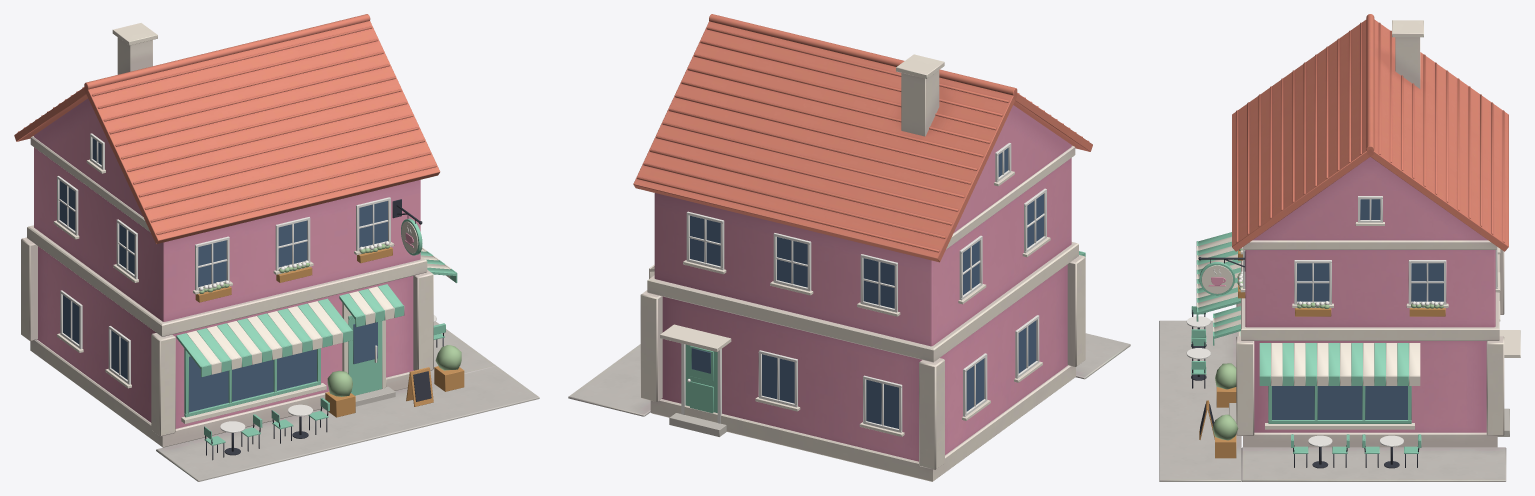
File: cafe-exterior.glb
3 views of the same model, side by side, from view 1: azimuth 30°, elevation 25°; view 2: azimuth 150°, elevation 25°; view 3: azimuth 270°, elevation 25° (orthographic). The views are drawn at different scales.
Parts seen in each view (by area): view 1: cafe_body, cafe_details, cafe_shrubs; view 2: cafe_body, cafe_details; view 3: cafe_body, cafe_details, cafe_shrubs.
Part boxes in pixels (bbox=[...]): cafe_body: bbox=[14, 14, 539, 481]; cafe_details: bbox=[53, 133, 464, 460]; cafe_shrubs: bbox=[327, 345, 461, 396]; cafe_body: bbox=[568, 14, 1130, 481]; cafe_details: bbox=[649, 143, 1085, 436]; cafe_body: bbox=[1159, 14, 1508, 481]; cafe_details: bbox=[1186, 196, 1520, 468]; cafe_shrubs: bbox=[1212, 363, 1238, 440].
Size of the model in its own units: 10.68 by 10.05 by 10.1.
Materials: 11 (1 with a texture image).
